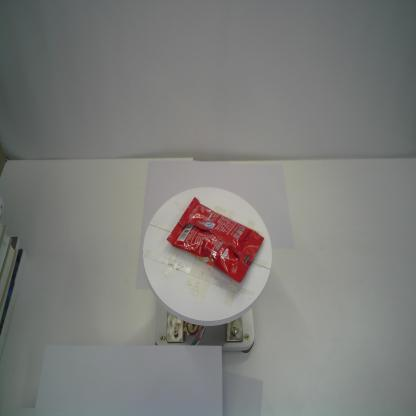Instant Drink: (167, 195, 266, 284)
